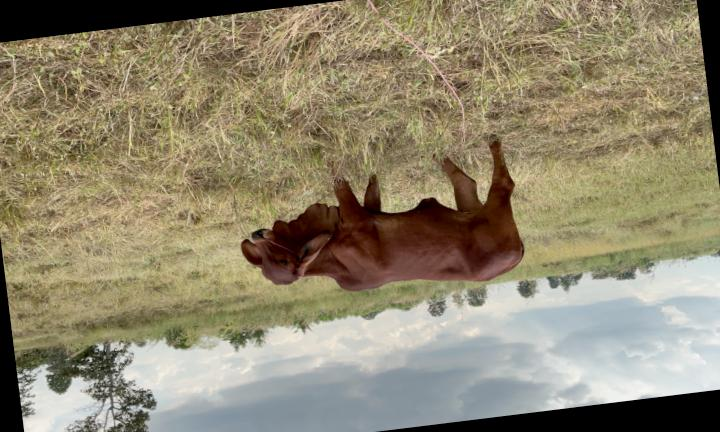Brahman: (241, 142, 524, 291)
